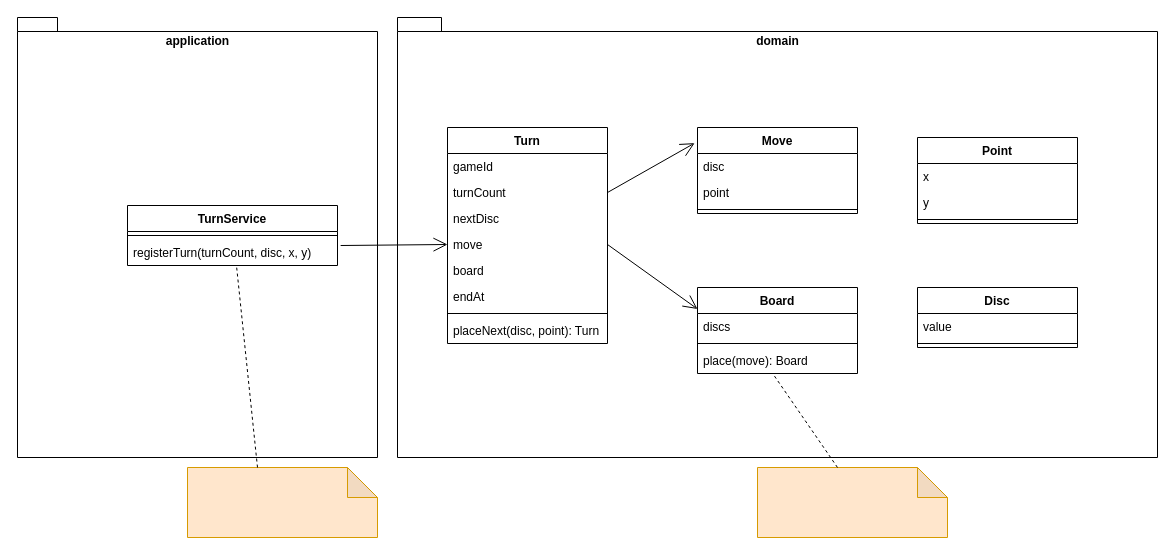
This 1175x555 diagram has some shape labels left out. The centre of each missing label's shape, as x and y in pixels:
placeの内部では ・盤面に置けるかチェック ・石を置く ・ひっくり返す: the point at 852,502
・１つ前のターンを取得する ・turn.placeNextを呼び出す ・ターンを保存する: the point at 282,502
